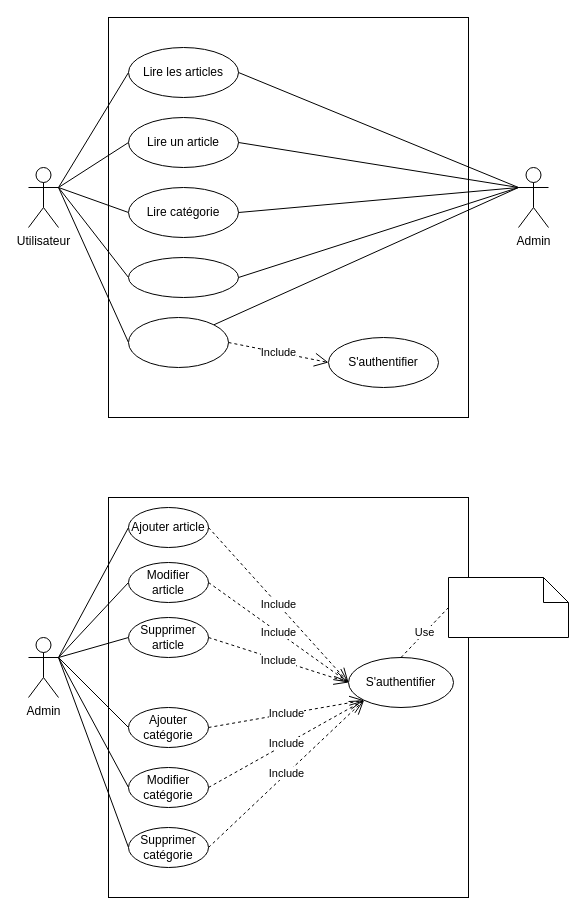
The diagram is 586 pixels wide and 915 high, and some of its shapes have lost their labels. Each missing label, with the box of its shape:
Lire catégories: (128, 256, 238, 298)
Poster commentaire: (128, 316, 228, 368)
S'authentifier en temps qu'admin: (448, 576, 568, 638)
